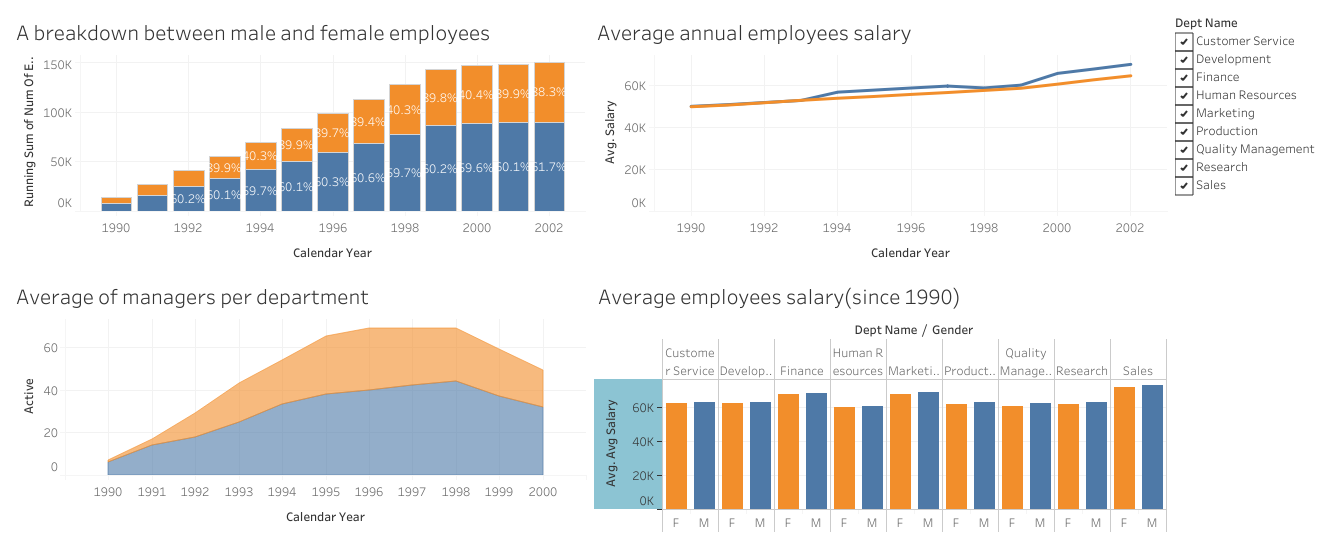

Layout of this report page (visuals, bound fields, positions):
{"tool":"tableau","page":{"name":"Dashboard 1","canvas":[1000,1000],"units":"permille","ordinal":0},"visuals":[{"type":"worksheet","title":"Chart 1","mark":"Bar","rows":["num_of_employees"],"cols":["calendar_year"],"box":[6.7,13.7,426.4,486.3]},{"type":"worksheet","title":"Chart 3","mark":"Automatic","rows":["salary"],"cols":["calendar_year"],"box":[433.1,13.7,426.4,486.3]},{"type":"filter","title":"Chart 3","param":"[federated.13ipbv01ljxgfd0zqosli0o43paf].[none:dept_name:nk]","box":[859.4,13.7,133.9,380.1]},{"type":"worksheet","title":"Chart 2","mark":"Area","rows":["active"],"cols":["calendar_year"],"box":[6.7,500,426.4,486.3]},{"type":"worksheet","title":"Chart 4","mark":"Bar","rows":["avg_salary"],"cols":["dept_name","gender"],"box":[433.1,500,426.4,486.3]}]}

Visuals, with their boxes on the dashboard's canvas, which has no fixed pixel size, in thousandths of its width and height (x1, y1, x2, y2). These are canvas units, not pixel positions in the 1338x543 screenshot, which may show the page scaled, cropped or inside an application window:
"Chart 1" worksheet (Bar marks): <bbox>7, 14, 433, 500</bbox>
"Chart 3" worksheet: <bbox>433, 14, 860, 500</bbox>
"Chart 3" filter: <bbox>859, 14, 993, 394</bbox>
"Chart 2" worksheet (Area marks): <bbox>7, 500, 433, 986</bbox>
"Chart 4" worksheet (Bar marks): <bbox>433, 500, 860, 986</bbox>
